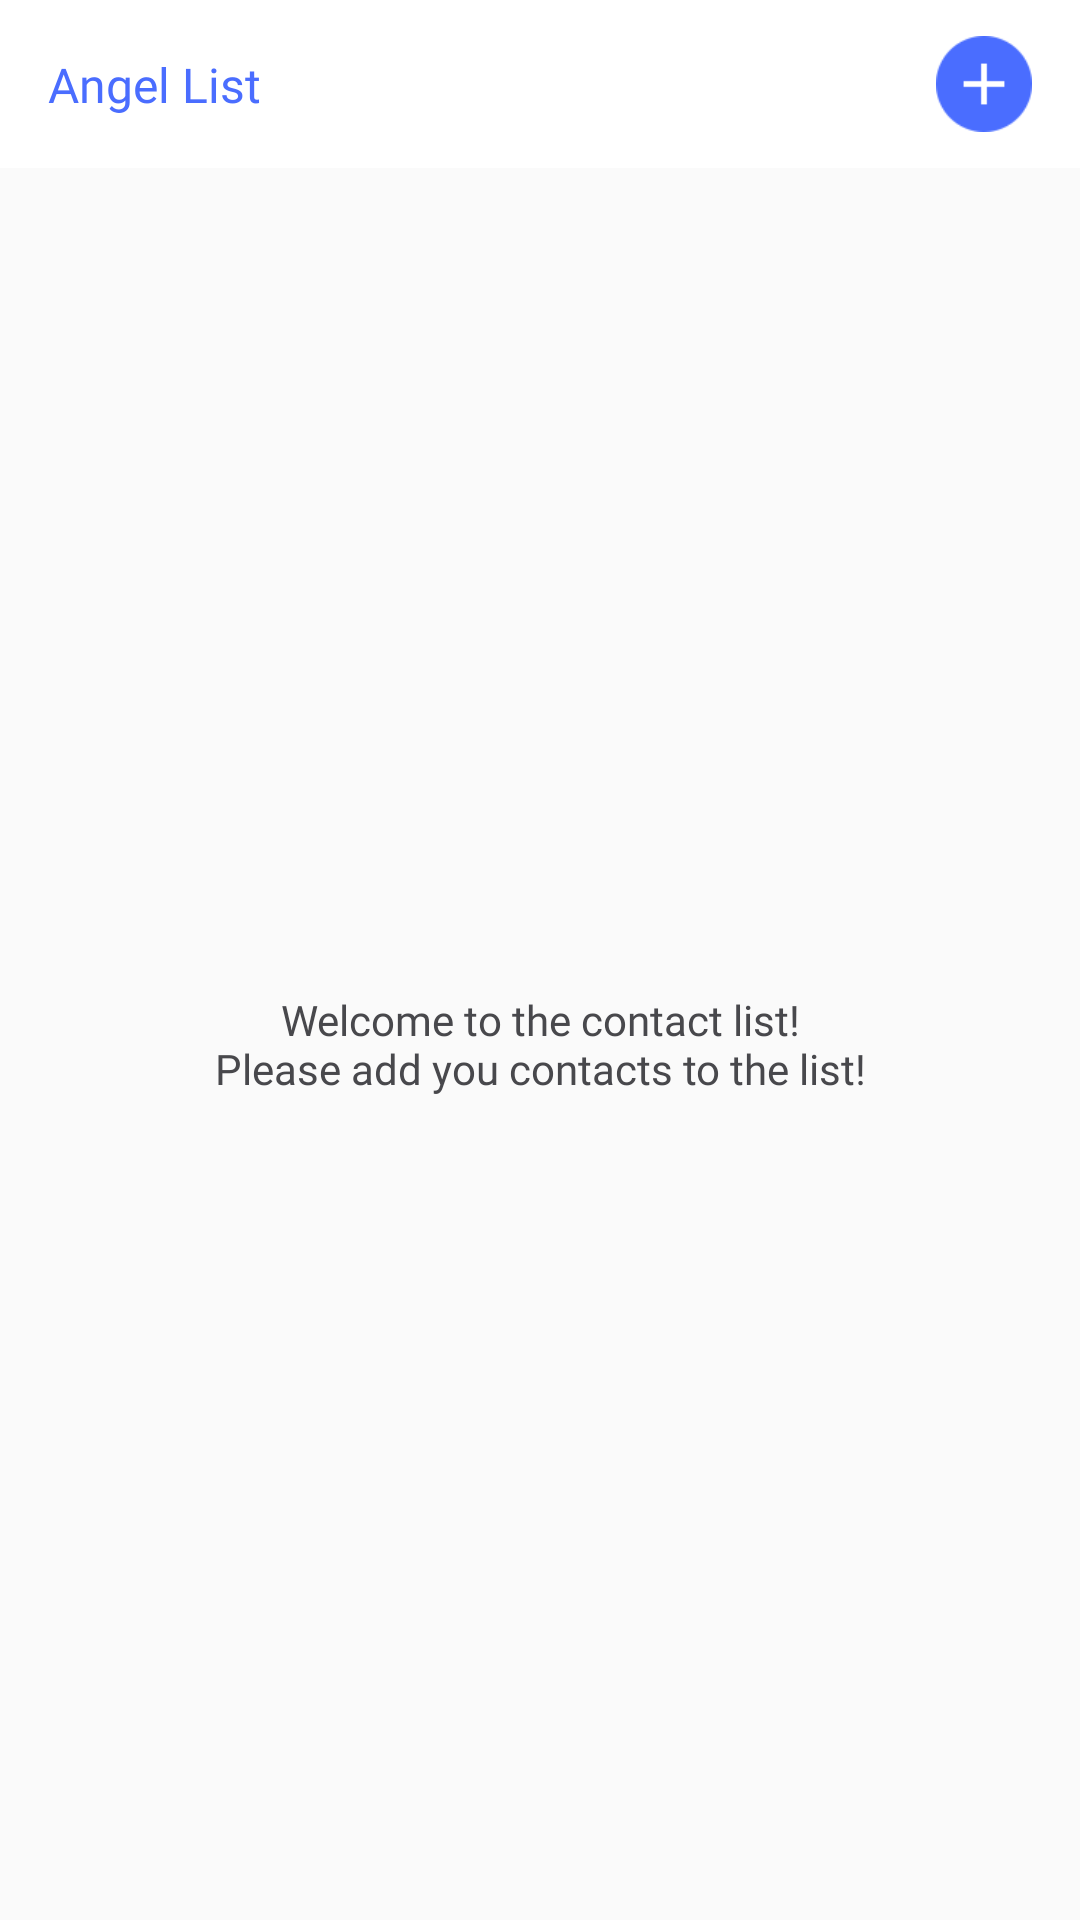

Icon click points for this 1080 x 1920 phone screenshot, format (x,y):
add contact: (984,84)
